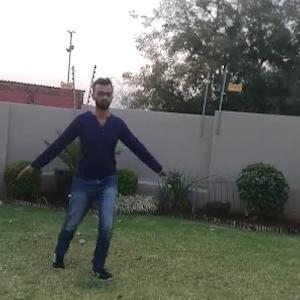land: (35, 93, 147, 247)
